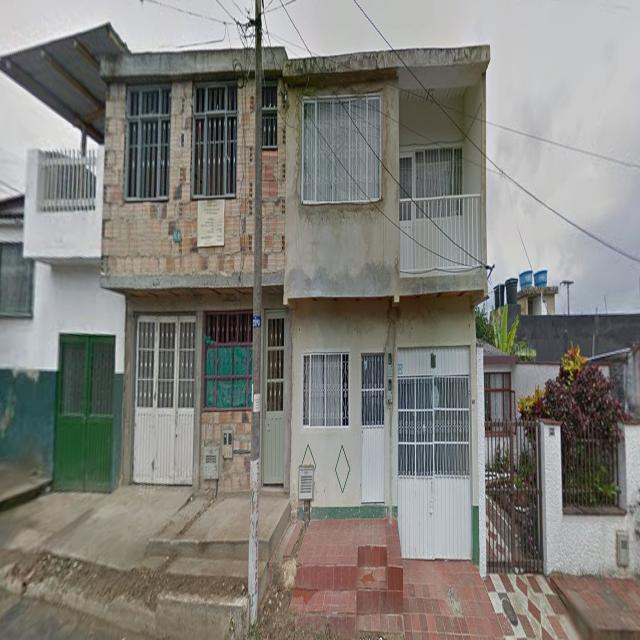Fachada: (284, 45, 490, 561), (99, 43, 288, 492), (0, 22, 130, 491), (477, 305, 640, 574)
Poste: (248, 254, 263, 624), (254, 121, 263, 250), (256, 0, 262, 83), (255, 86, 262, 120)
